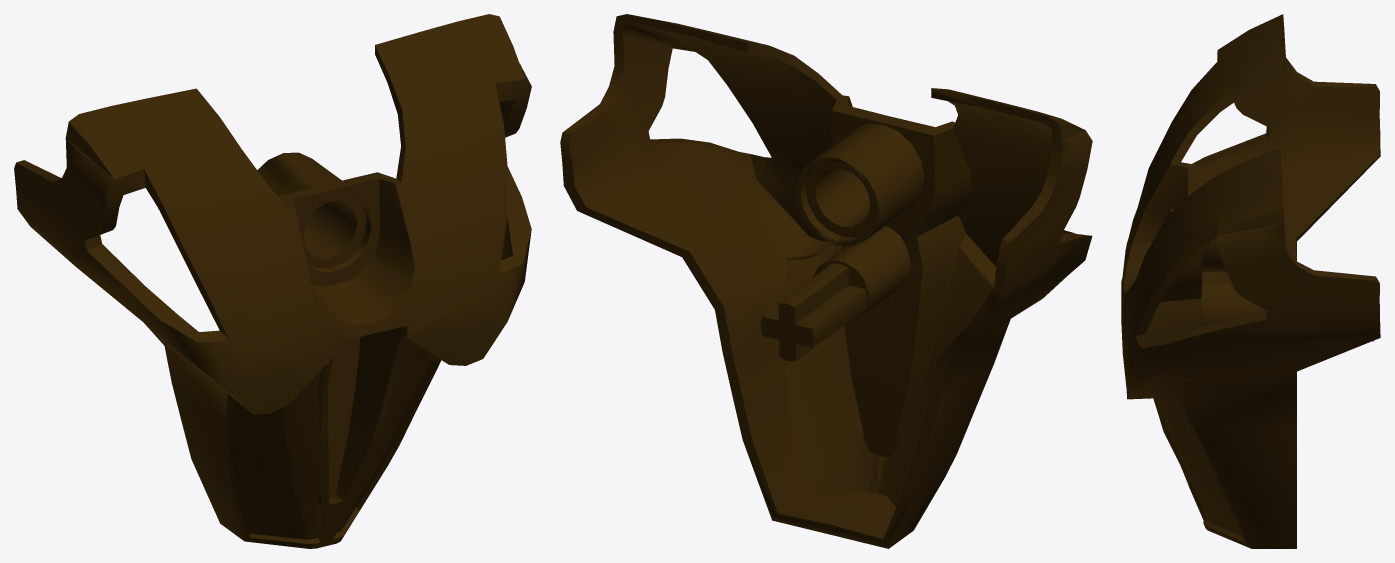
The model's file is bionicle_toa_nuva_chest_armor_43558.glb.
The picture shows the model from 3 angles, left to right: view 1: azimuth 30°, elevation 25°; view 2: azimuth 150°, elevation 25°; view 3: azimuth 270°, elevation 25°; orthographic projection. The views are drawn at different scales.
Parts seen in each view (by area): view 1: 00001_43558.dat; view 2: 00001_43558.dat; view 3: 00001_43558.dat.
Part boxes in pixels (left/top/right/bottom): 00001_43558.dat: left=14, top=14, right=531, bottom=548; 00001_43558.dat: left=560, top=14, right=1092, bottom=548; 00001_43558.dat: left=1121, top=14, right=1380, bottom=548.
Bounding box in the file's own units: 2.15 × 2.12 × 1.19.
